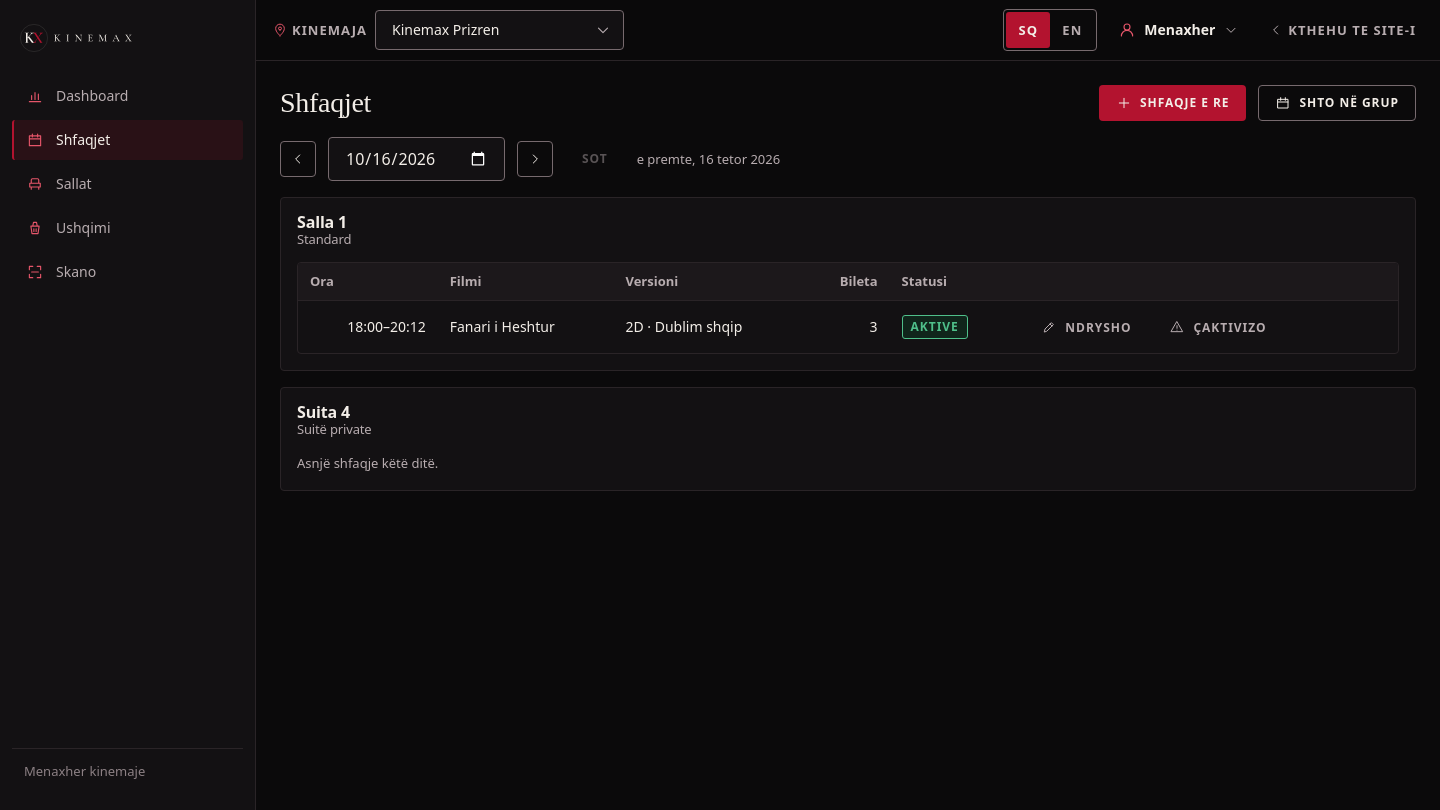
Scenario: the showtimes page › creates a show, shows the computed end and explains an overlap
The width and height of the screenshot is (1440, 810).
Click the button "Shfaqje e re".
click(1173, 103)  # box [1099,85,1246,121]
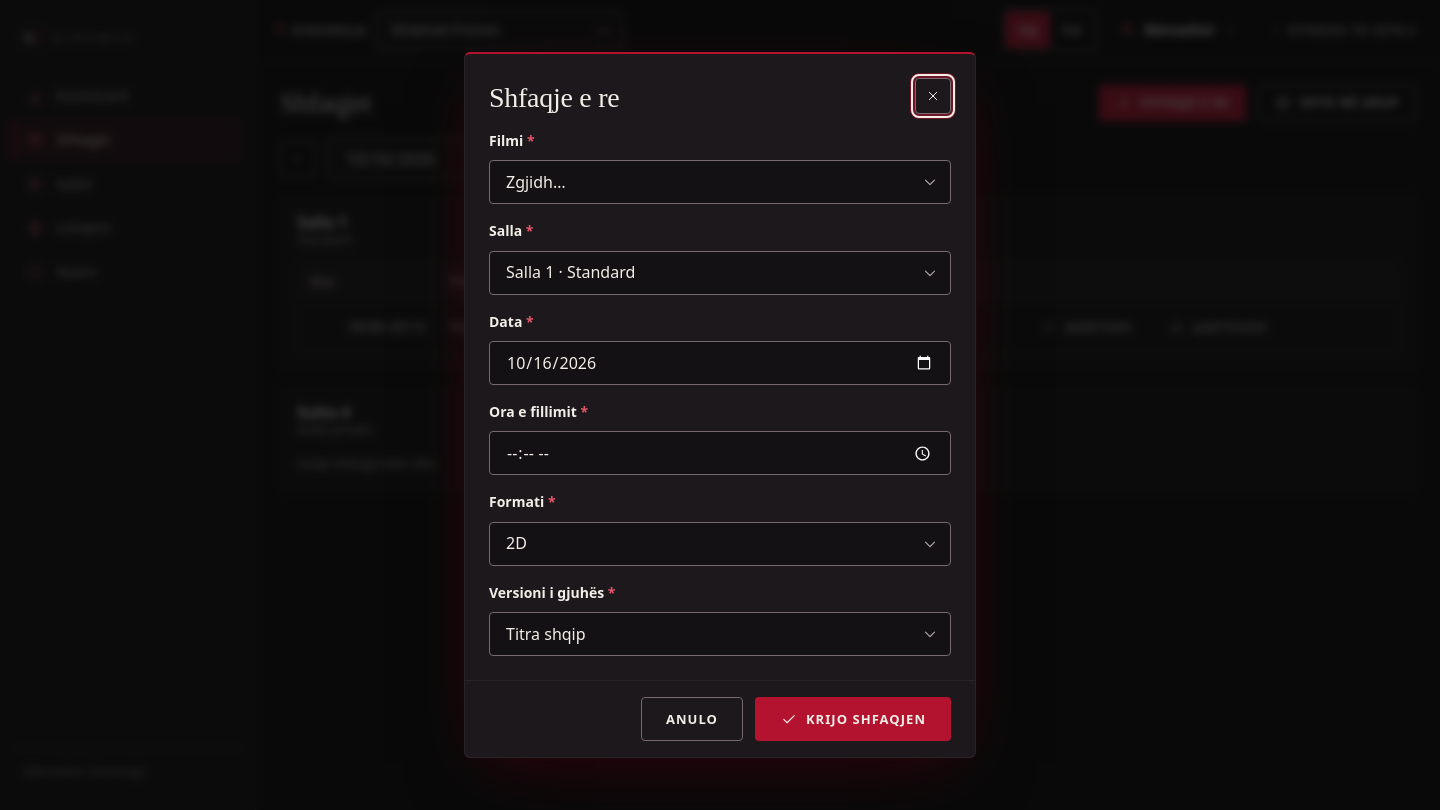
Select "Fanari i Heshtur · 1 orë 52 min" in the dropdown labelled "Filmi *" at (720, 182), box [489,160,951,204]
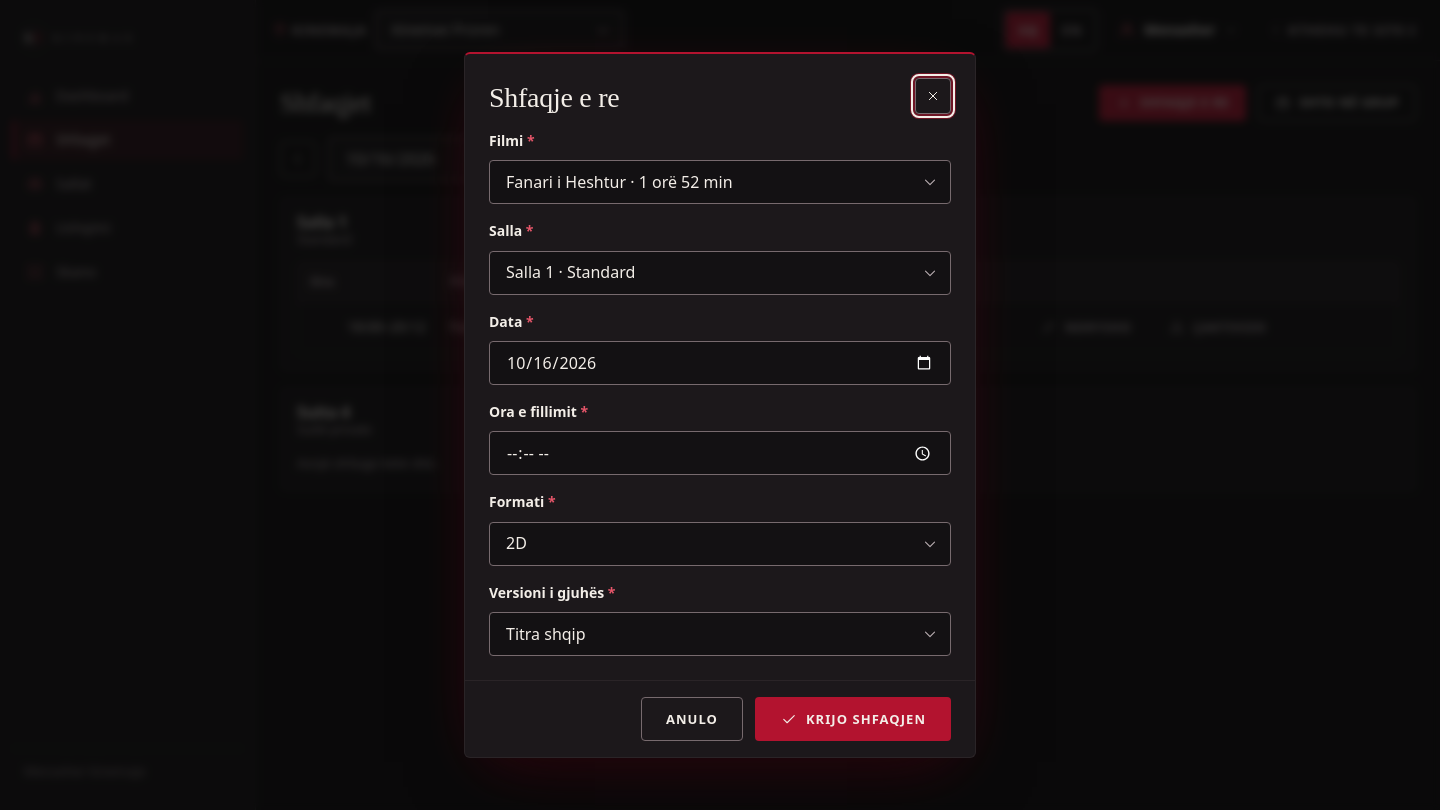
Type "21:00" into the time field labelled "Ora e fillimit *".
click(720, 453); type("21:00")  # box [489,431,951,475]
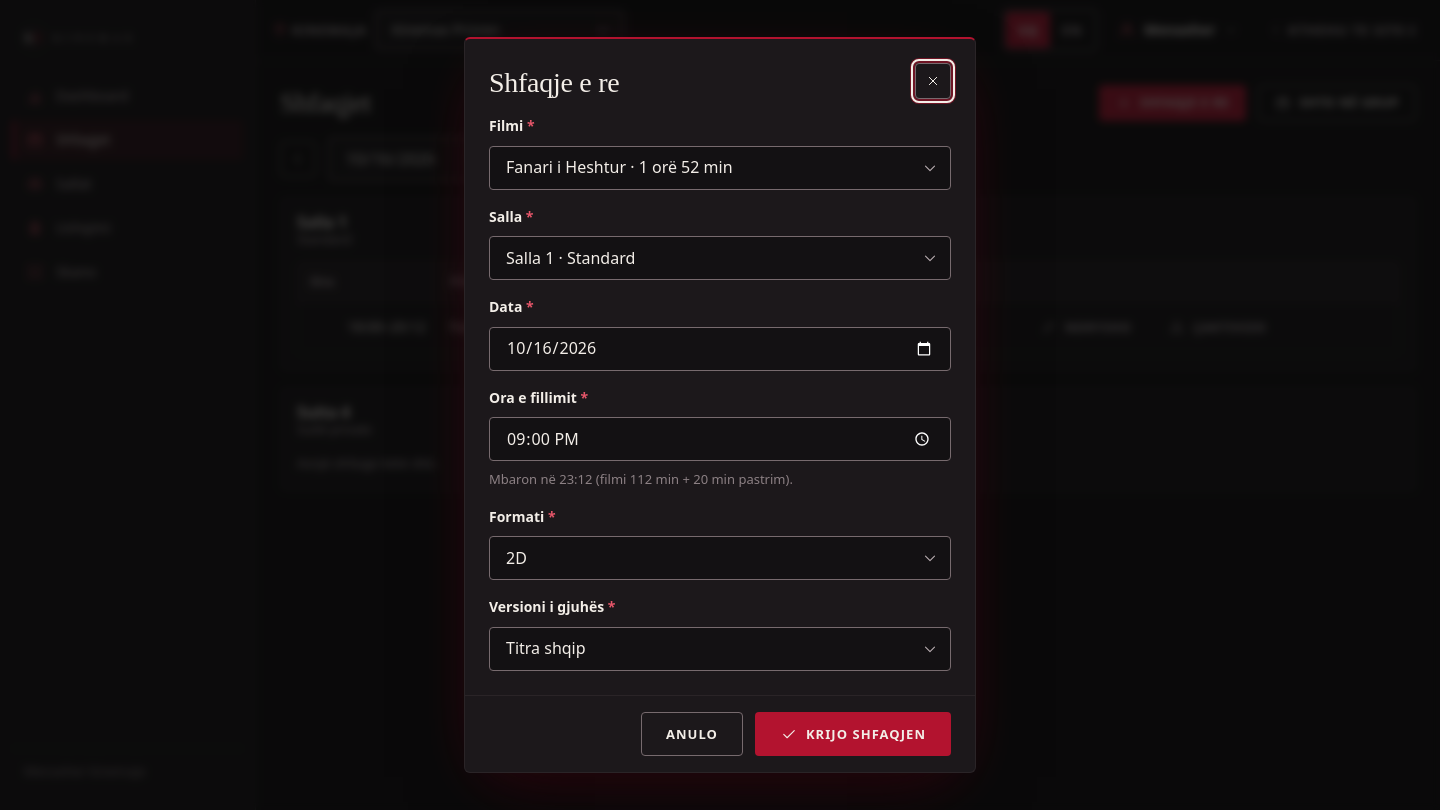
Result: the text "Mbaron në 23:12 (filmi 112 min + 20 min pastrim)." is shown at [489,470,793,488]
Click the button "Krijo shfaqjen".
click(853, 734)  # box [755,712,951,756]
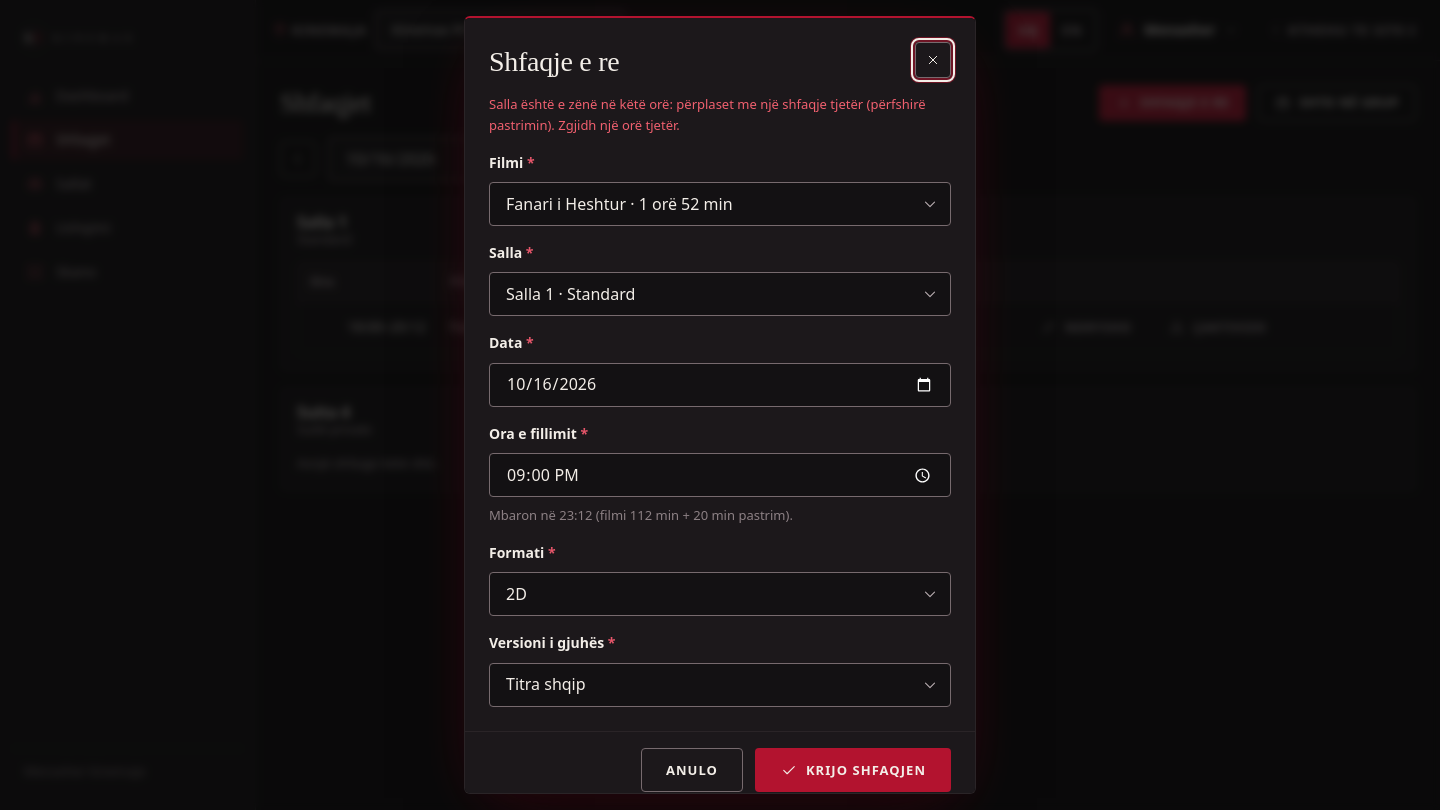
Result: the message shows "Salla është e zënë" at [489,95,926,134]
Click the button "Krijo shfaqjen".
click(853, 770)  # box [755,748,951,792]
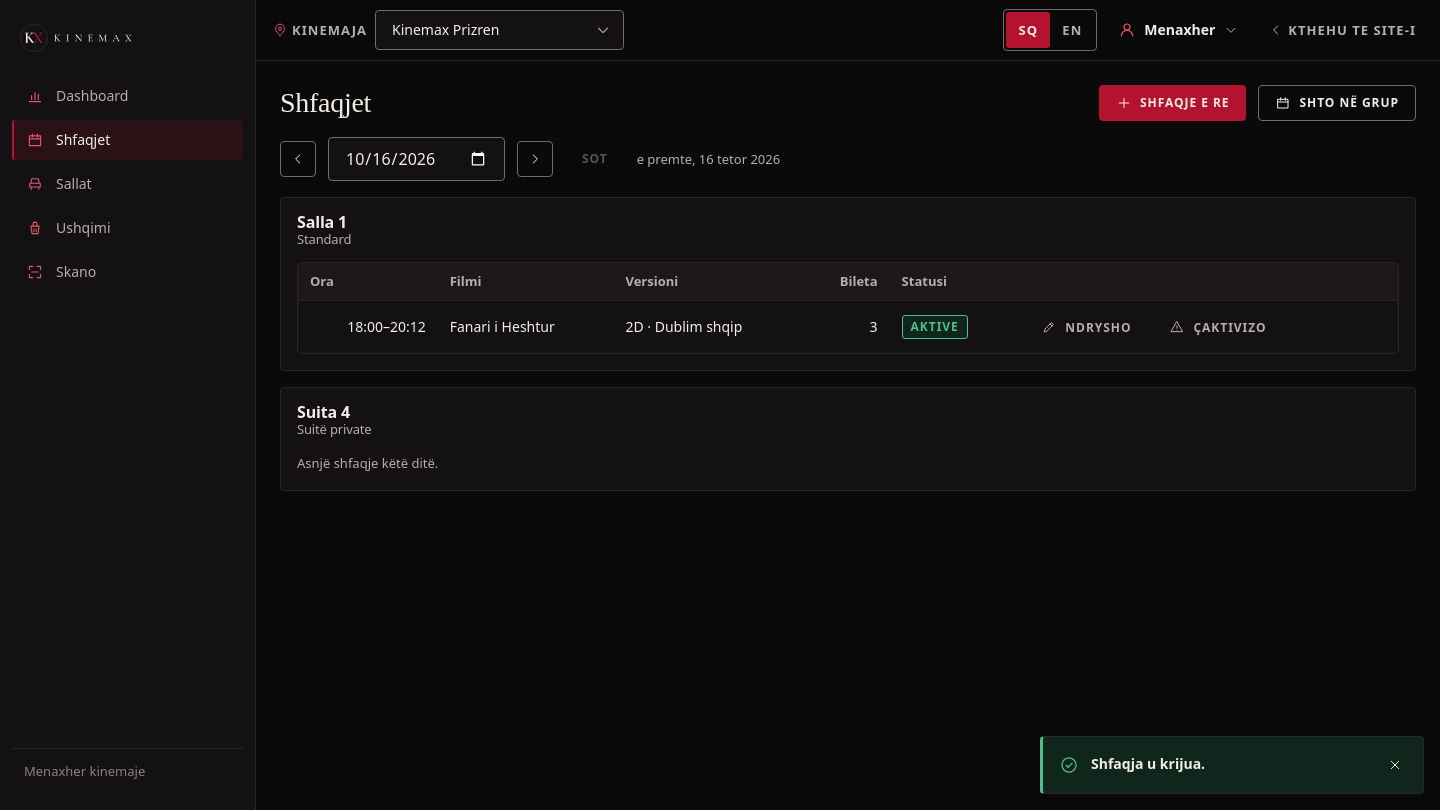
Result: the text "Shfaqja u krijua." is shown at [1091,754,1205,773]
